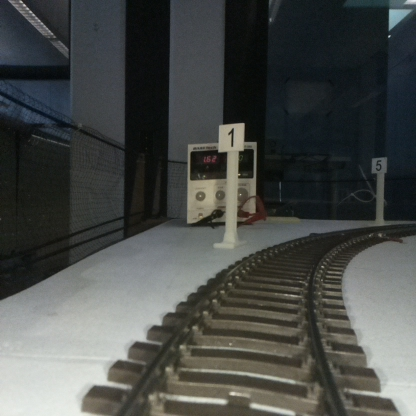white-info-1: (218, 123, 244, 247)
white-info-5: (372, 157, 386, 222)
